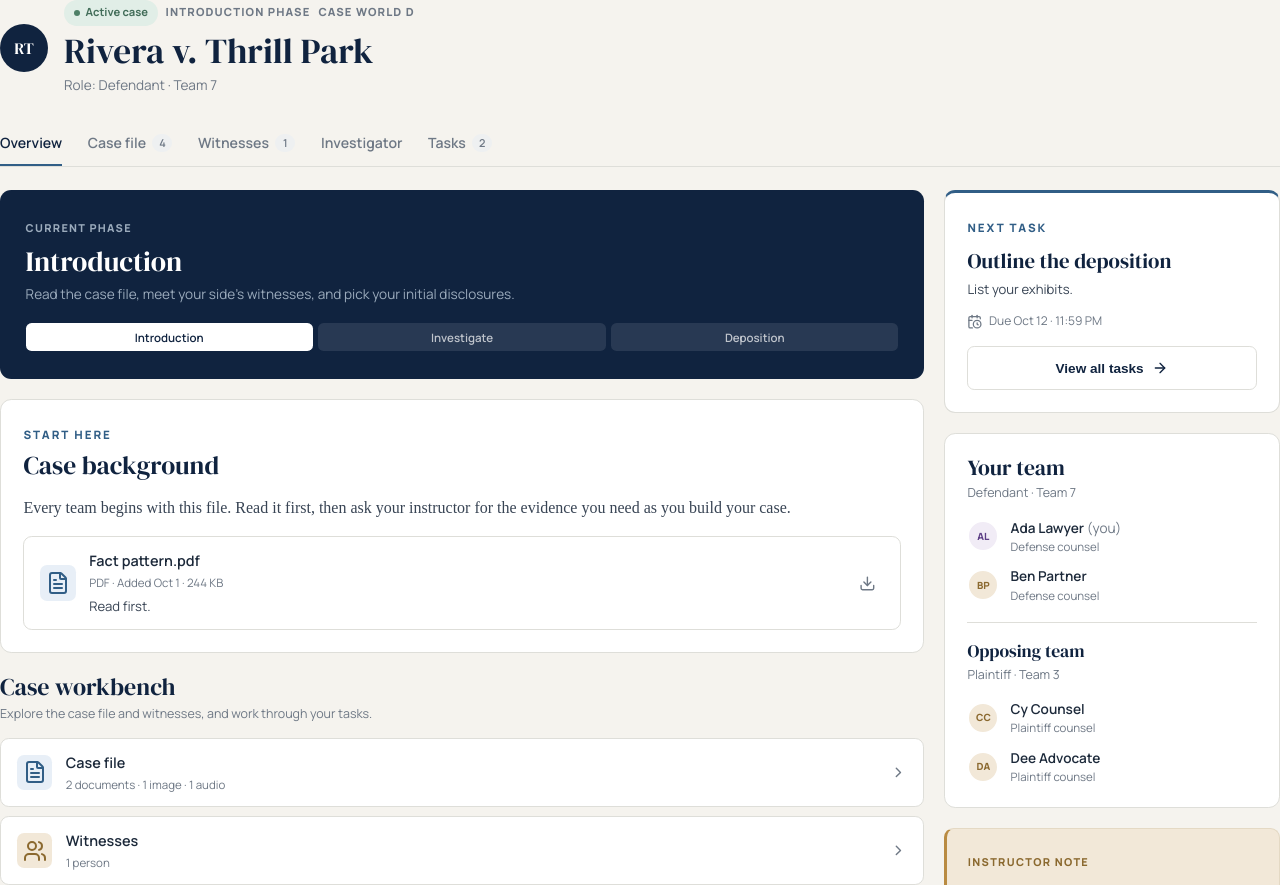
Test: CaseWorkspaceView › shows the Interview button in the instructor's preview without opening anything
The image size is (1280, 885).
Click the tab with aria-label "Witnesses, 1" at point(247, 144), box [198, 121, 295, 166]
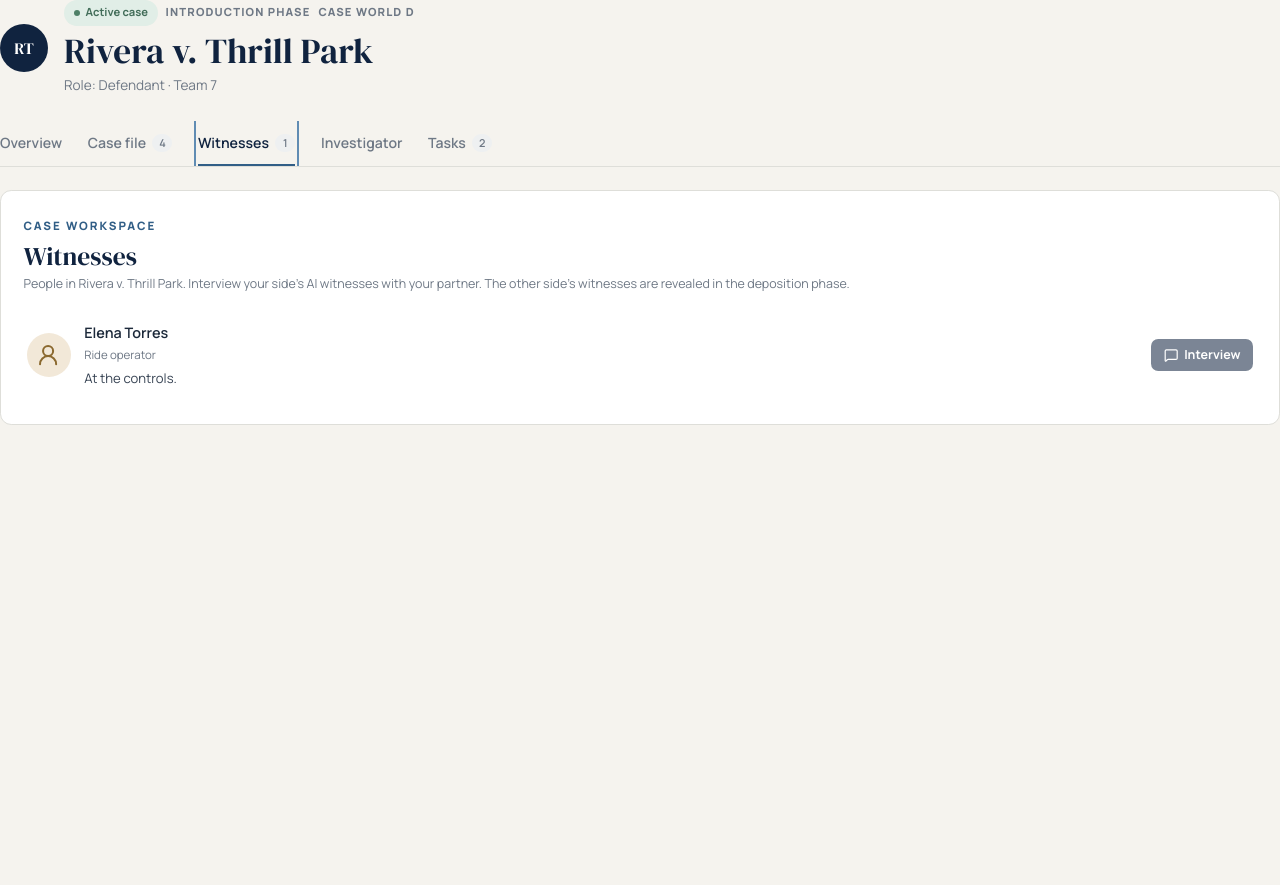
Expected: the panel shows "Interview", [1184, 346, 1241, 363]
